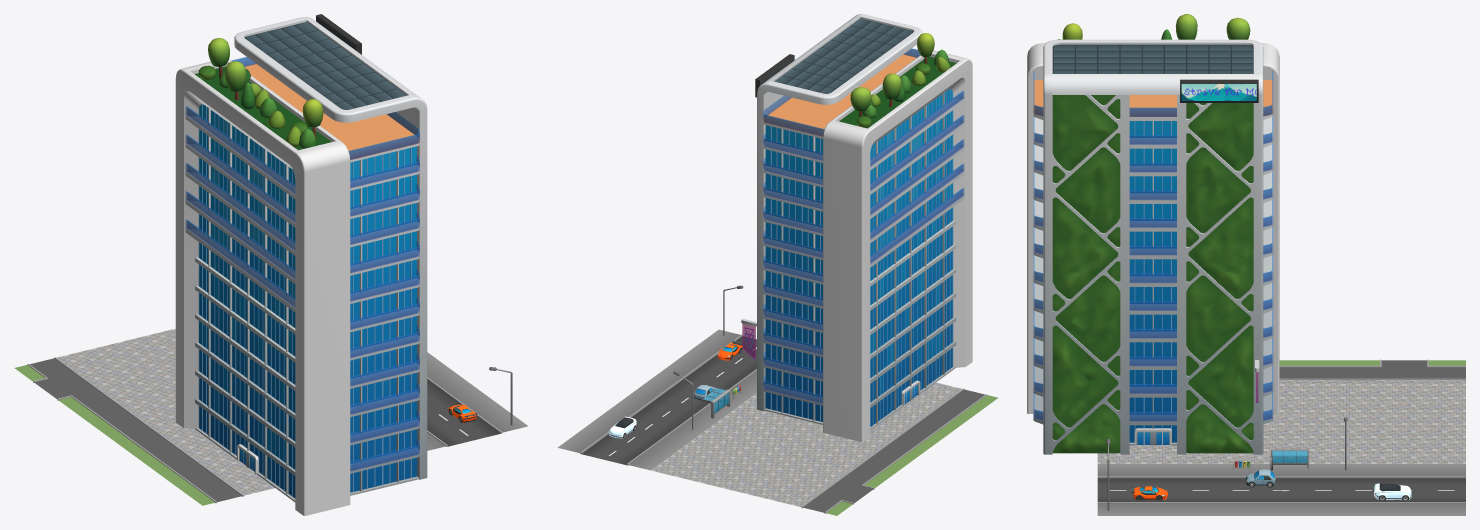
The model's file is south-central-east.gltf.
3 renders of one model, left to right at view 1: azimuth 30°, elevation 25°; view 2: azimuth 150°, elevation 25°; view 3: azimuth 270°, elevation 25°, orthographic. The views are drawn at different scales.
Visible parts, largest first — view 1: Eco_Building_Grid.005, Set_B_Tiles_04.053, Set_B_Tiles_05.113, Set_B_Tiles_05.112, road_009.243, Set_B_Tiles_09.152, road_009.244; view 2: Eco_Building_Grid.005, Set_B_Tiles_04.053, Set_B_Tiles_09.152, road_009.245, road_009.244, Set_B_Tiles_05.113, Set_B_Tiles_09.153, Set_B_Tiles_05.112, road_009.243, Signboard_01.004; view 3: Eco_Building_Grid.005, Set_B_Tiles_04.053, Set_B_Tiles_09.152, road_009.243, road_009.244, road_009.245, Set_B_Tiles_09.153, Set_B_Tiles_05.113, Billboard_4x1_03.002, Set_B_Tiles_09.154, Bus_Stop_02.050, Futuristic_Car_1.002.
Boxes of the visible parts, x1,y1,x2,y2 form: Eco_Building_Grid.005: [175, 16, 427, 515]; Set_B_Tiles_04.053: [14, 341, 175, 413]; Set_B_Tiles_05.113: [77, 390, 212, 459]; Set_B_Tiles_05.112: [140, 442, 274, 505]; road_009.243: [427, 380, 528, 450]; Set_B_Tiles_09.152: [123, 328, 175, 379]; road_009.244: [427, 352, 465, 390]; Eco_Building_Grid.005: [757, 14, 972, 442]; Set_B_Tiles_04.053: [744, 454, 890, 515]; Set_B_Tiles_09.152: [651, 431, 797, 492]; road_009.245: [557, 408, 703, 470]; road_009.244: [611, 369, 756, 430]; Set_B_Tiles_05.113: [798, 422, 944, 476]; Set_B_Tiles_09.153: [705, 393, 824, 453]; Set_B_Tiles_05.112: [882, 382, 998, 436]; road_009.243: [665, 329, 756, 391]; Signboard_01.004: [741, 319, 756, 359]; Eco_Building_Grid.005: [1027, 14, 1279, 454]; Set_B_Tiles_04.053: [1343, 359, 1465, 412]; Set_B_Tiles_09.152: [1343, 412, 1465, 463]; road_009.243: [1097, 464, 1220, 515]; road_009.244: [1220, 464, 1343, 515]; road_009.245: [1343, 464, 1465, 515]; Set_B_Tiles_09.153: [1220, 412, 1343, 463]; Set_B_Tiles_05.113: [1279, 360, 1343, 412]; Billboard_4x1_03.002: [1180, 79, 1258, 102]; Set_B_Tiles_09.154: [1097, 445, 1220, 463]; Bus_Stop_02.050: [1270, 449, 1308, 470]; Futuristic_Car_1.002: [1374, 483, 1411, 499].
Size of the model in its own units: 45 by 51.84 by 53.63.
Materials: 14 (12 with a texture image).
